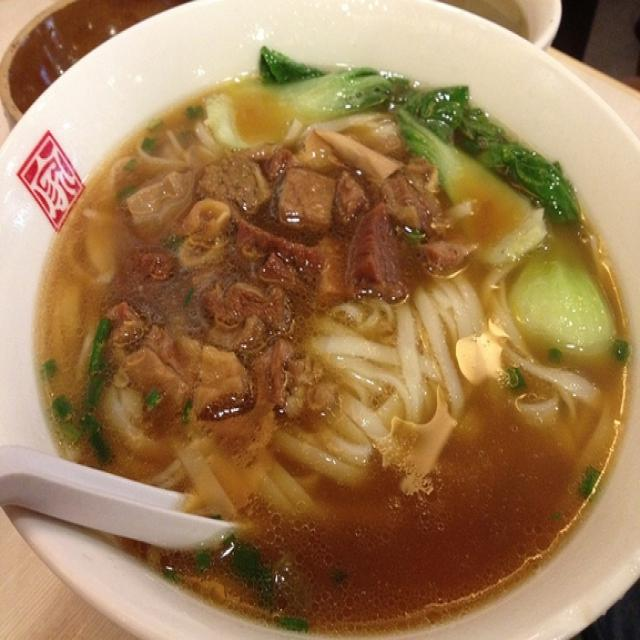面条主食: (25, 40, 629, 625)
